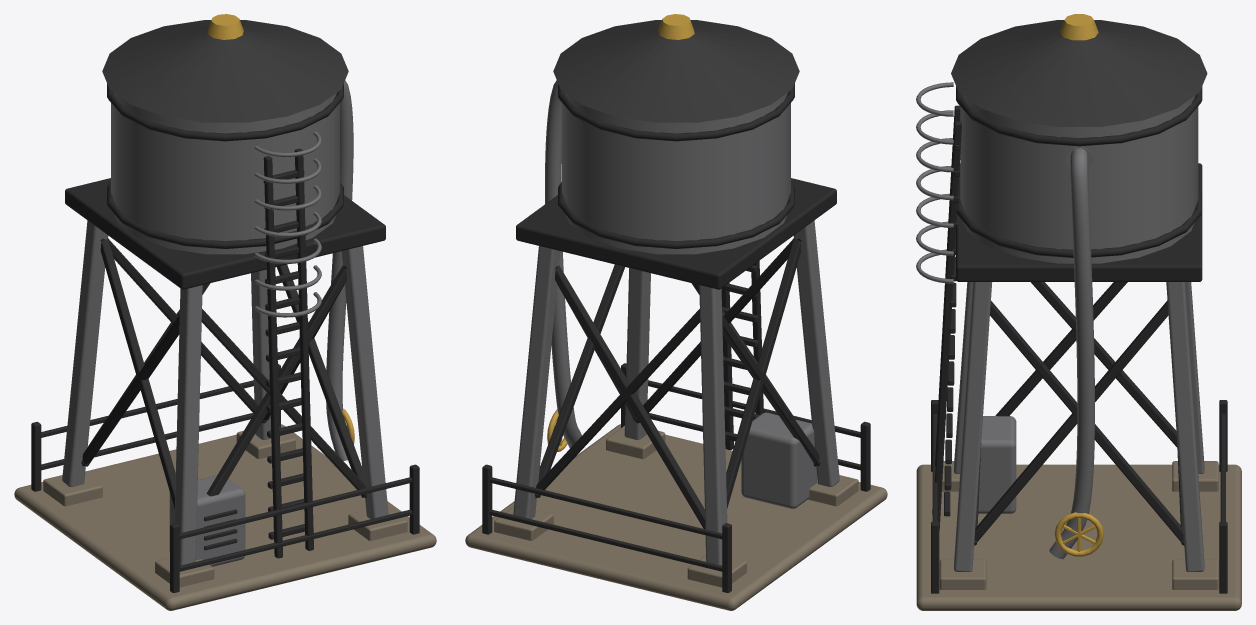
File: water-tower.glb
The picture shows the model from 3 angles, left to right: view 1: azimuth 30°, elevation 25°; view 2: azimuth 150°, elevation 25°; view 3: azimuth 270°, elevation 25°; orthographic projection. The views are drawn at different scales.
Parts seen in each view (by area): view 1: water-tower-farm-metal, water-tower-farm-window, water-tower-farm-stone, water-tower-farm-roof-slate, water-tower-farm-gold; view 2: water-tower-farm-metal, water-tower-farm-window, water-tower-farm-stone, water-tower-farm-roof-slate, water-tower-farm-gold; view 3: water-tower-farm-metal, water-tower-farm-stone, water-tower-farm-window, water-tower-farm-roof-slate, water-tower-farm-gold.
Part boxes in pixels (bbox=[...]): water-tower-farm-metal: bbox=[62, 80, 388, 566]; water-tower-farm-window: bbox=[31, 83, 419, 592]; water-tower-farm-stone: bbox=[14, 424, 436, 610]; water-tower-farm-roof-slate: bbox=[102, 20, 348, 122]; water-tower-farm-gold: bbox=[207, 14, 354, 444]; water-tower-farm-metal: bbox=[513, 80, 839, 565]; water-tower-farm-window: bbox=[482, 83, 870, 592]; water-tower-farm-stone: bbox=[465, 424, 887, 610]; water-tower-farm-roof-slate: bbox=[553, 20, 799, 122]; water-tower-farm-gold: bbox=[547, 14, 694, 451]; water-tower-farm-metal: bbox=[916, 82, 1204, 571]; water-tower-farm-stone: bbox=[916, 461, 1241, 610]; water-tower-farm-window: bbox=[931, 86, 1227, 593]; water-tower-farm-roof-slate: bbox=[951, 20, 1207, 126]; water-tower-farm-gold: bbox=[1054, 14, 1103, 556].
Bounding box in the file's own units: 3.5 × 6.22 × 3.51.
